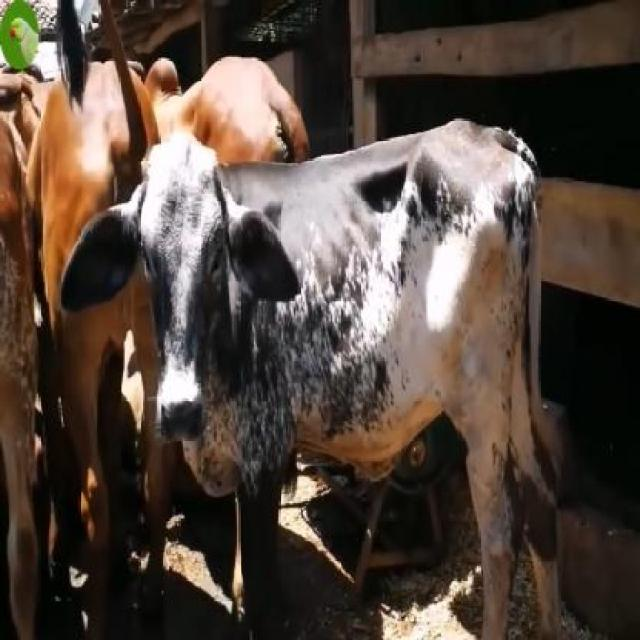Cow: (57, 119, 558, 638)
